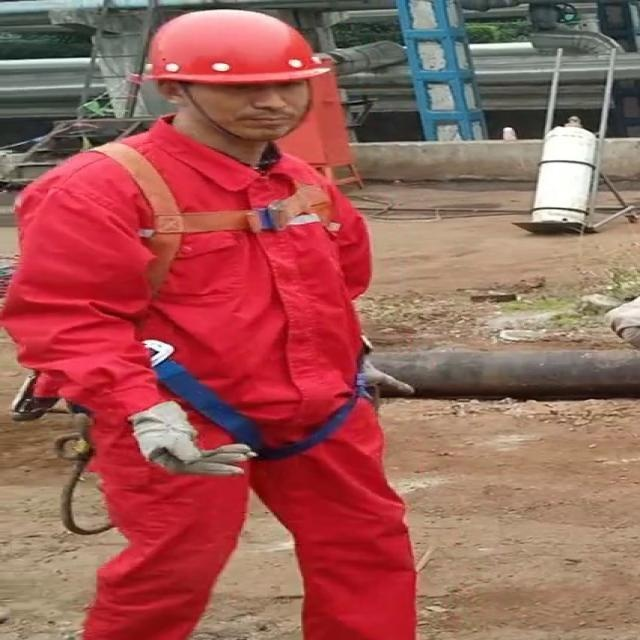Arnes_seguridad: (51, 133, 392, 468)
